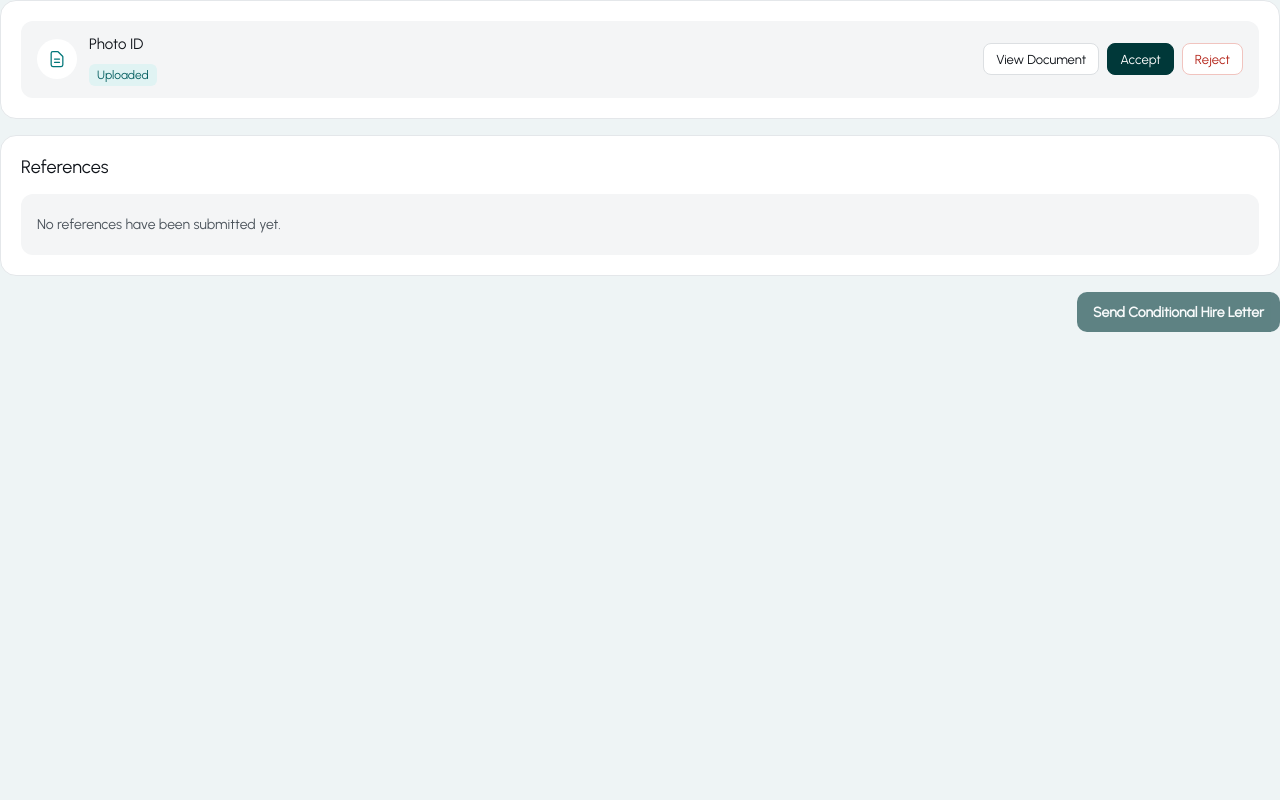
opens an uploaded document in the preview modal
Click the button "View Document".
click(1041, 59)  # box [983, 43, 1099, 75]
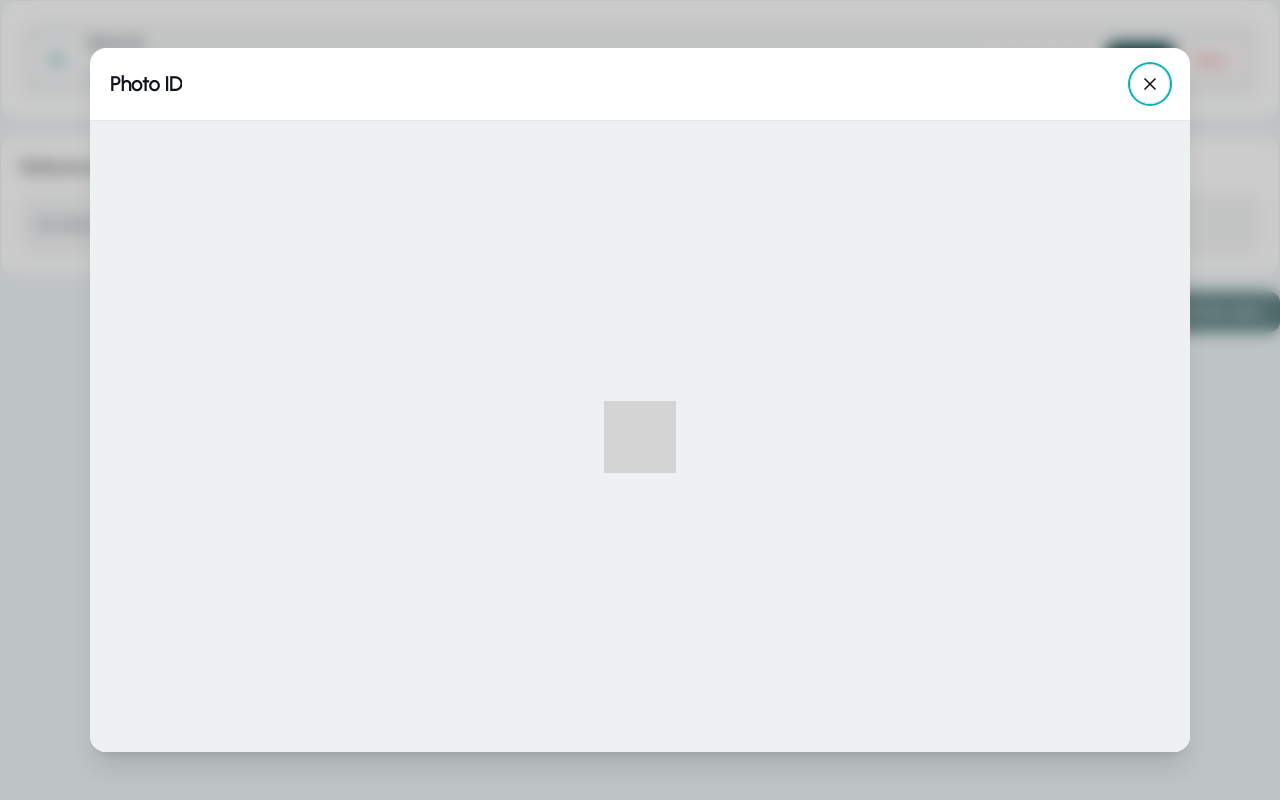
Expected: the dialog "Photo ID" is shown
Click the button named "Close".
click(1150, 84)  # box [1130, 64, 1170, 104]
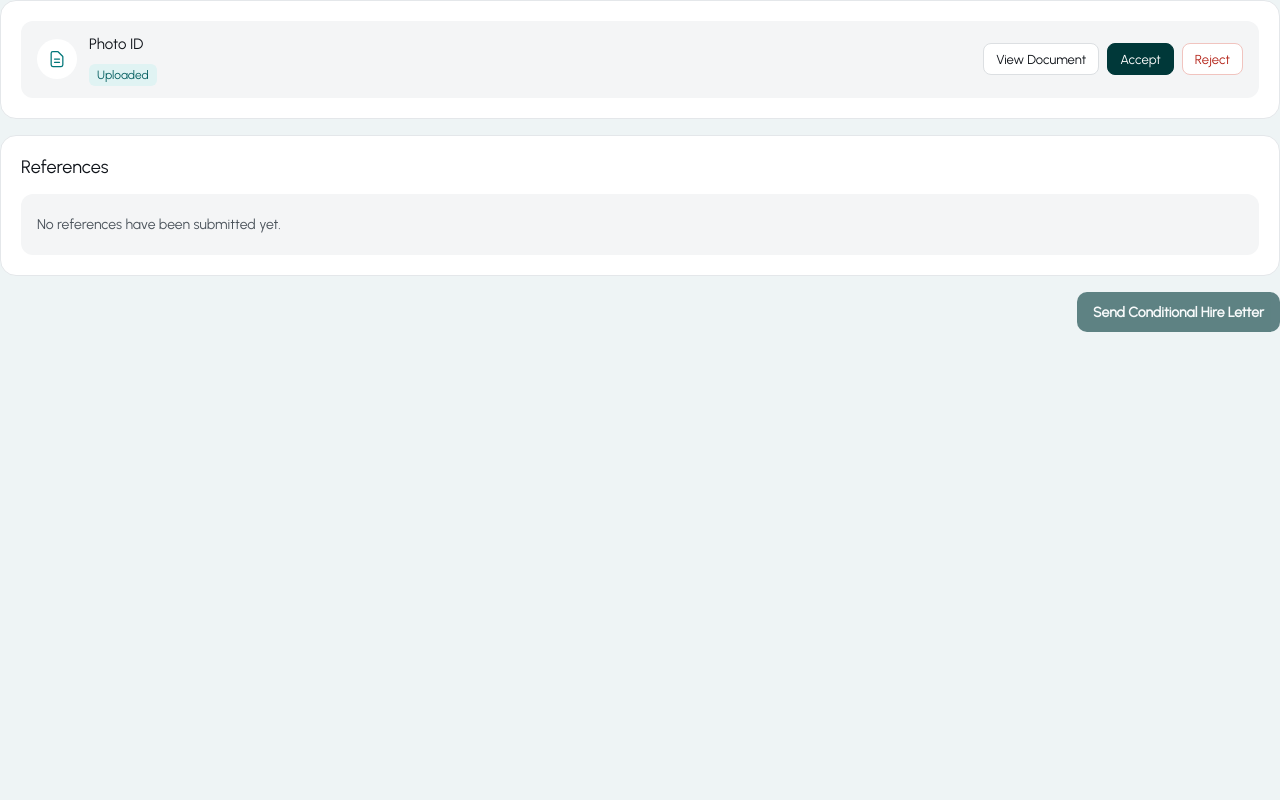
Expected: the dialog is gone
